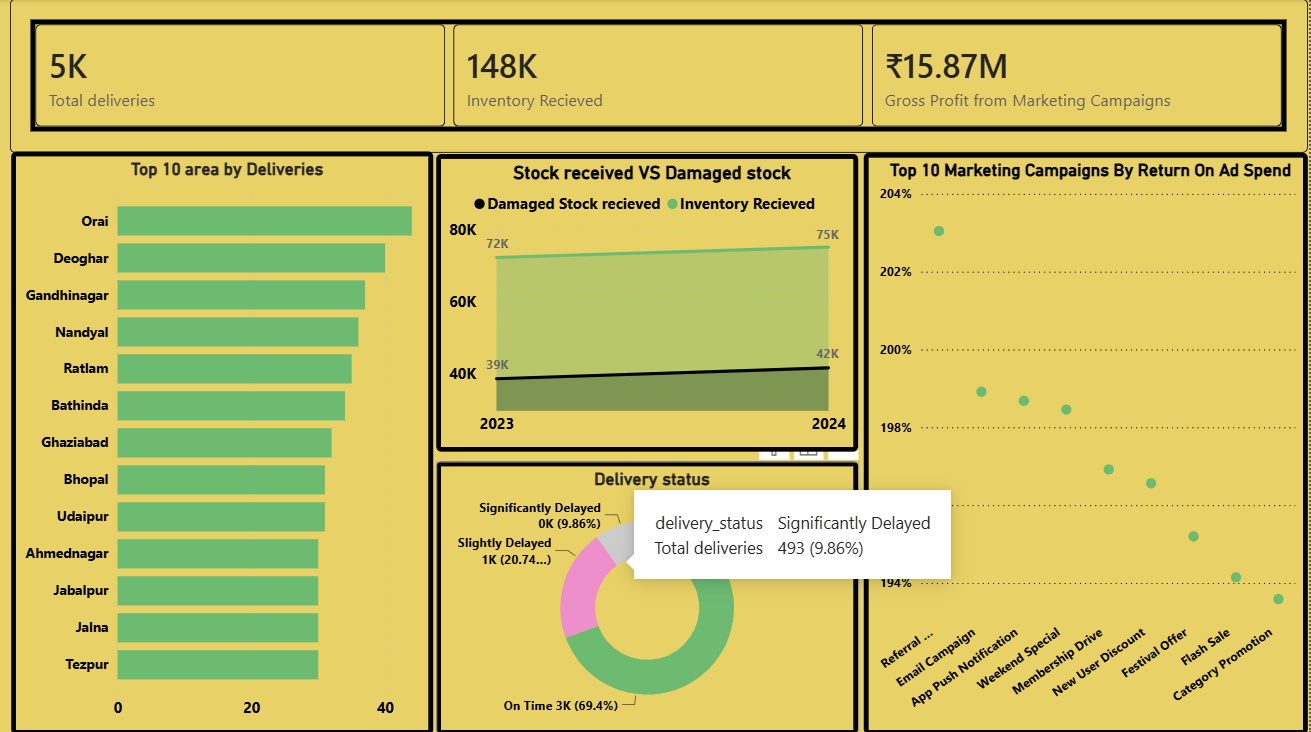

What the dashboard file says about the page in this screenshot:
{"tool":"powerbi","page":{"name":"Operations Dashbord","canvas":[1280,720],"ordinal":2},"visuals":[{"type":"cardVisual","fields":{"Data":["blinkit_delivery_performance.Total deliveries","blinkit_inventory.Inventory recieved","blinkit_marketing_performance.Gross Profit from Marketing Campaigns"]},"box":[10.1,0,1269.6,150],"z":0},{"type":"clusteredBarChart","title":"Top 10 area by Deliveries","fields":{"Y":["blinkit_delivery_performance.Total deliveries"],"Category":["blinkit_customers.area"]},"box":[10.7,149.5,412.9,571.3],"z":1000},{"type":"donutChart","title":"Delivery status","fields":{"Category":["blinkit_delivery_performance.delivery_status"],"Y":["blinkit_delivery_performance.Total deliveries"]},"box":[427.1,453,412.6,266.9],"z":2000},{"type":"areaChart","title":"Stock received VS Damaged stock","fields":{"Category":["blinkit_inventory.date.Variation.Date Hierarchy.Year"],"Y":["blinkit_inventory.Damaged Stock recieved","blinkit_inventory.Inventory recieved"]},"box":[427.1,151.2,412.6,291.4],"z":3000},{"type":"lineChart","title":"Top 10 Marketing Campaigns By Return On Ad Spend","fields":{"Category":["blinkit_marketing_performance.campaign_name"],"Y":["blinkit_marketing_performance.Return On Ad Spend"]},"box":[845.5,150,434.3,569.9],"z":4000}]}

Visuals, with their boxes in screenshot pixels (x1, y1, x2, y2), scaled from the page's 1280x720 canvas onto the 1311x732 screenshot:
cardVisual - blinkit_delivery_performance.Total deliveries x blinkit_inventory.Inventory recieved: (10,0,1310,152)
"Top 10 area by Deliveries" clusteredBarChart: (11,152,434,731)
"Delivery status" donutChart: (437,461,860,731)
"Stock received VS Damaged stock" areaChart: (437,154,860,450)
"Top 10 Marketing Campaigns By Return On Ad Spend" lineChart: (866,152,1310,731)
